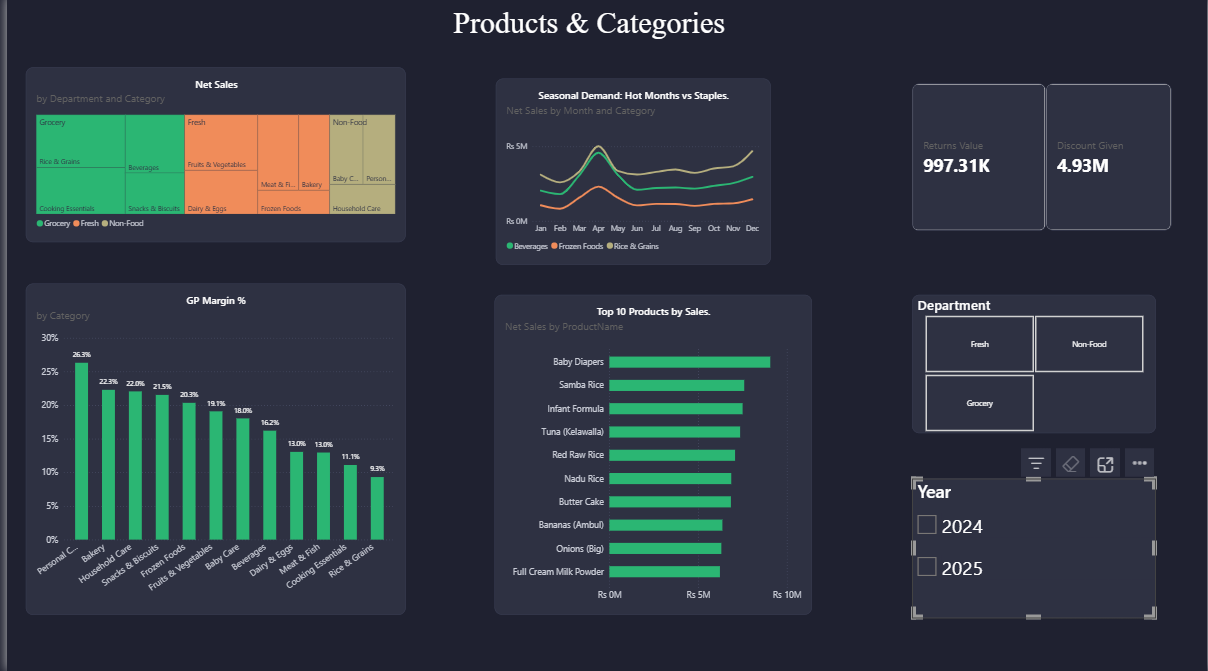

The dashboard page shown, as its layout file describes it:
{"tool":"powerbi","page":{"name":"Products & Categories","canvas":[1920,1080],"ordinal":2},"visuals":[{"type":"textbox","box":[10,0,280,280],"z":0},{"type":"textbox","box":[10,290,280,280],"z":1000},{"type":"textbox","box":[713.3,15,531.7,116.7],"z":2000},{"type":"treemap","fields":{"Details":["products.Category"],"Group":["products.Department"],"Values":["_Measures.Net Sales"]},"box":[68,118,608.3,280],"z":3000},{"type":"barChart","title":"Top 10 Products by Sales.","fields":{"Category":["products.ProductName"],"Y":["_Measures.Net Sales"]},"box":[780,478,508,512],"z":4000},{"type":"clusteredColumnChart","fields":{"Category":["products.Category"],"Y":["_Measures.GP Margin %"]},"box":[30,460,608,530],"z":5000},{"type":"lineChart","title":"Seasonal Demand: Hot Months vs Staples.","fields":{"Category":["Date.Month"],"Series":["products.Category"],"Y":["_Measures.Net Sales"]},"box":[782,132,440,298],"z":6000},{"type":"slicer","fields":{"Values":["Date.Year"]},"box":[1448,772,390,223.3],"z":7000},{"type":"slicer","fields":{"Values":["products.Department"]},"box":[1448.3,478.3,390,221.7],"z":8000},{"type":"cardVisual","fields":{"Data":["_Measures.Discount Given"]},"box":[1662,140,201.7,235],"z":9000},{"type":"cardVisual","fields":{"Data":["_Measures.Returns Value"]},"box":[1448,140,214,236],"z":10000}]}

Visuals, with their boxes in screenshot pixels (x1, y1, x2, y2), scaled from the page's 1920x1080 canvas onto the 1208x671 screenshot:
textbox: bbox=(6, 0, 182, 174)
textbox: bbox=(6, 180, 182, 354)
textbox: bbox=(449, 9, 783, 82)
treemap - products.Category x products.Department: bbox=(43, 73, 426, 247)
"Top 10 Products by Sales." barChart: bbox=(491, 297, 810, 615)
clusteredColumnChart - products.Category x _Measures.GP Margin %: bbox=(19, 286, 401, 615)
"Seasonal Demand: Hot Months vs Staples." lineChart: bbox=(492, 82, 769, 267)
slicer - Date.Year: bbox=(911, 480, 1156, 618)
slicer - products.Department: bbox=(911, 297, 1157, 435)
cardVisual - _Measures.Discount Given: bbox=(1046, 87, 1173, 233)
cardVisual - _Measures.Returns Value: bbox=(911, 87, 1046, 234)
